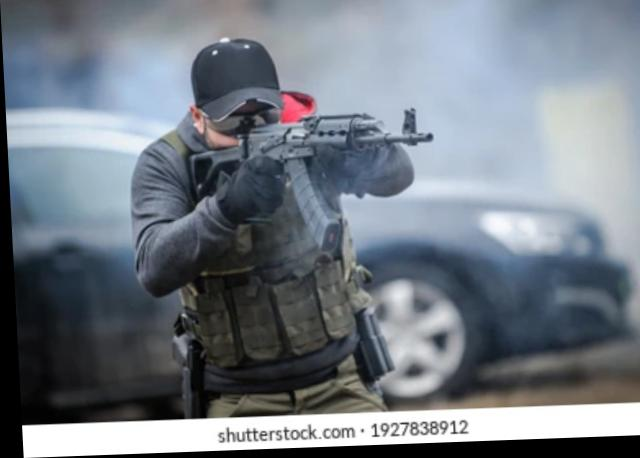other: (127, 40, 365, 381)
